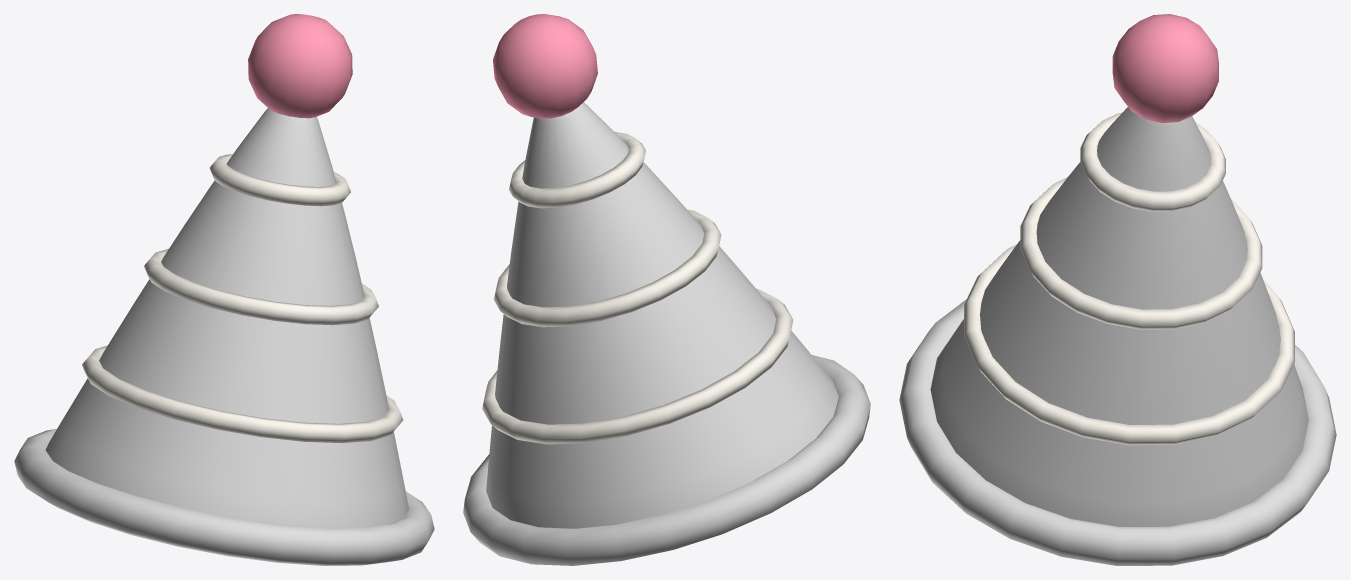
File: party_hat.glb
The picture shows the model from 3 angles, left to right: view 1: azimuth 30°, elevation 25°; view 2: azimuth 150°, elevation 25°; view 3: azimuth 270°, elevation 25°; orthographic projection. The views are drawn at different scales.
Parts seen in each view (by area): view 1: party_hat; view 2: party_hat; view 3: party_hat.
Boxes of the visible parts, x1,y1,x2,y2 form: party_hat: [14, 14, 434, 565]; party_hat: [463, 14, 870, 565]; party_hat: [899, 14, 1336, 565].
Bounding box in the file's own units: 0.5796 × 0.7769 × 0.5967.
